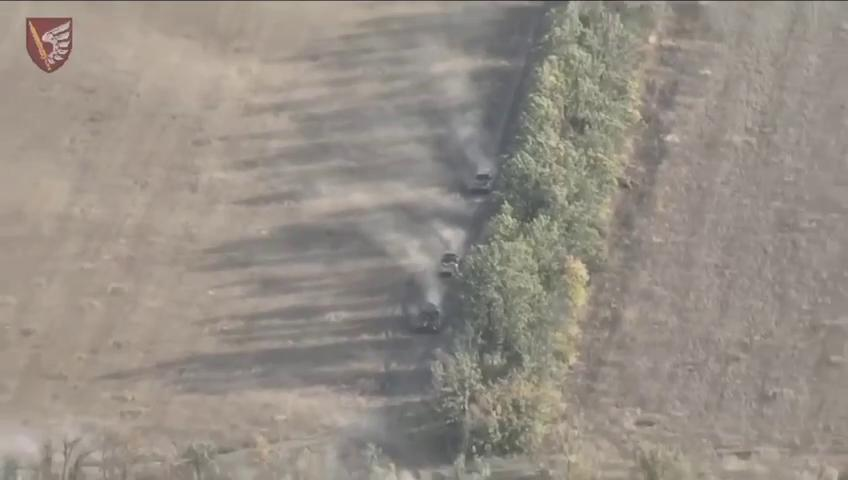tank: (414, 296, 447, 336), (436, 244, 463, 280), (471, 161, 498, 197)
